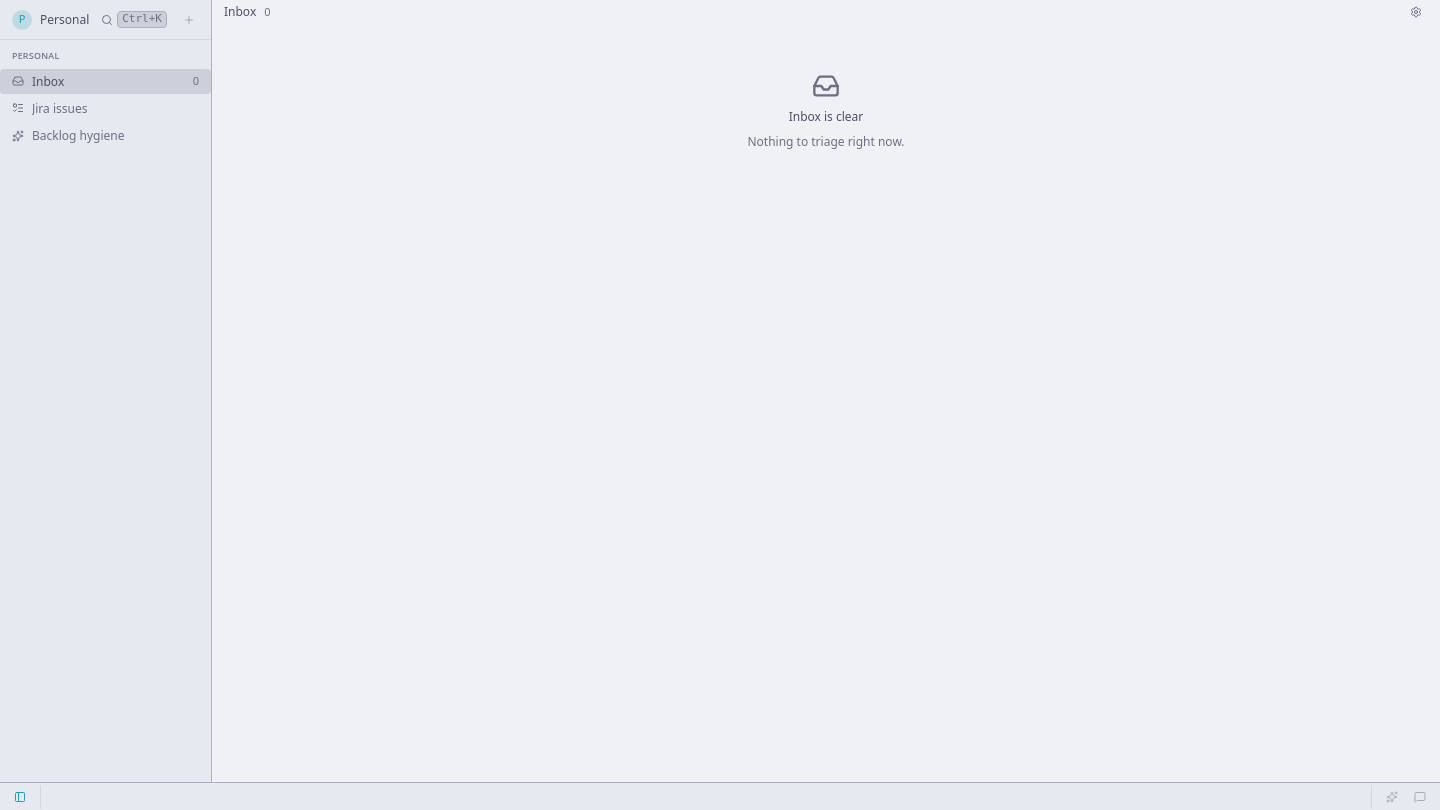
it: App / quick switcher › opens the quick switcher from the sidebar Search button
What coordinates should you click on to do the following:
click the button with aria-label "Search items"
I would click on:
 (134, 20)
Its box is [97,7,171,32].
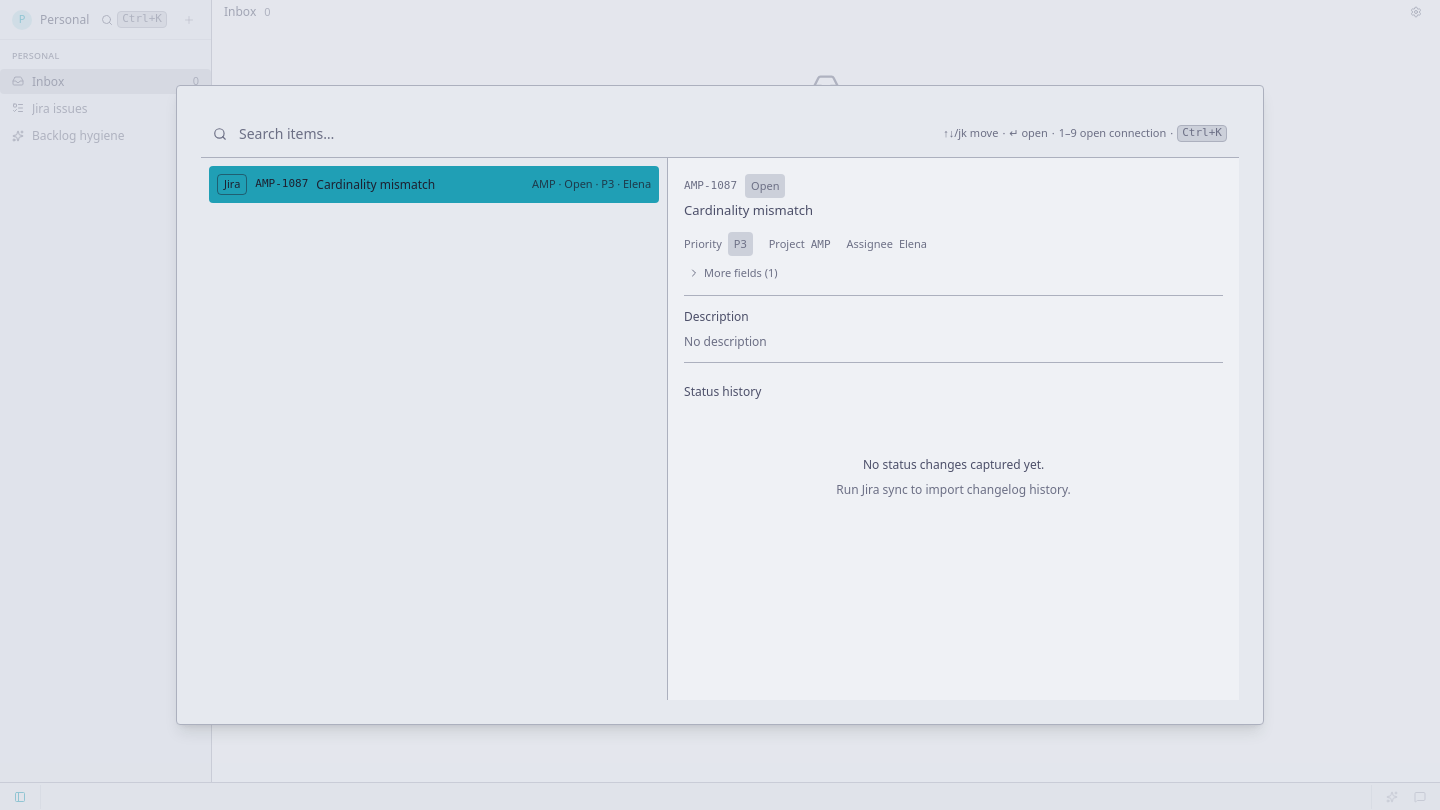
Check: the dialog named "Quick switcher" is shown, box [176,85,1264,725]
